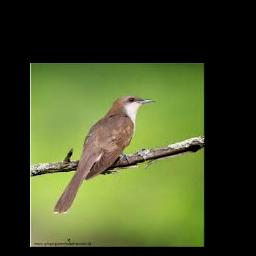Cuckoo: (54, 96, 156, 213)
